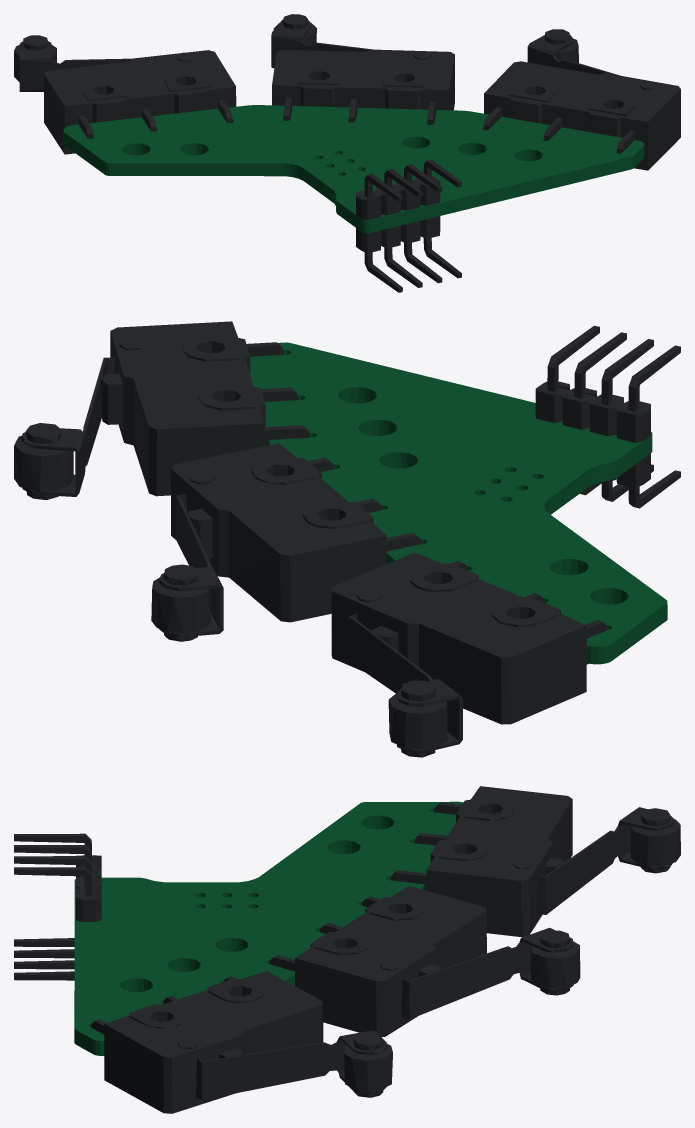
File: bumper_romi_switch_kit.glb
3 renders of one model, top to bottom at view 1: azimuth 30°, elevation 25°; view 2: azimuth 150°, elevation 25°; view 3: azimuth 270°, elevation 25°, orthographic. The views are drawn at different scales.
Visible parts, largest first — view 1: part_bumper_romi_switch_kit__black_polymer, part_bumper_romi_switch_kit__pcb; view 2: part_bumper_romi_switch_kit__black_polymer, part_bumper_romi_switch_kit__pcb; view 3: part_bumper_romi_switch_kit__black_polymer, part_bumper_romi_switch_kit__pcb.
Boxes of the visible parts, x1,y1,x2,y2 form: part_bumper_romi_switch_kit__black_polymer: [14, 14, 680, 292]; part_bumper_romi_switch_kit__pcb: [63, 105, 644, 233]; part_bumper_romi_switch_kit__black_polymer: [14, 321, 680, 757]; part_bumper_romi_switch_kit__pcb: [250, 342, 667, 664]; part_bumper_romi_switch_kit__black_polymer: [14, 786, 680, 1113]; part_bumper_romi_switch_kit__pcb: [74, 801, 463, 1055].
Size of the model in its own units: 0.0631 by 0.0118 by 0.0644.
